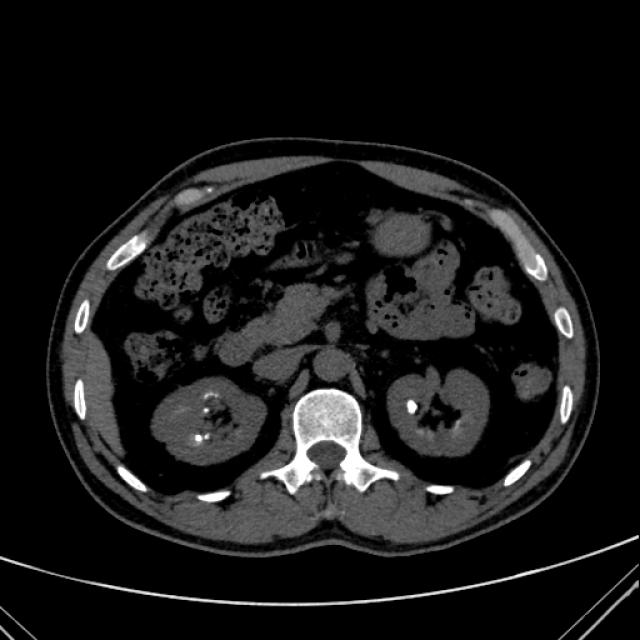kidneystone: (406, 399, 419, 414), (195, 430, 209, 437), (204, 392, 220, 398), (203, 406, 212, 411)
